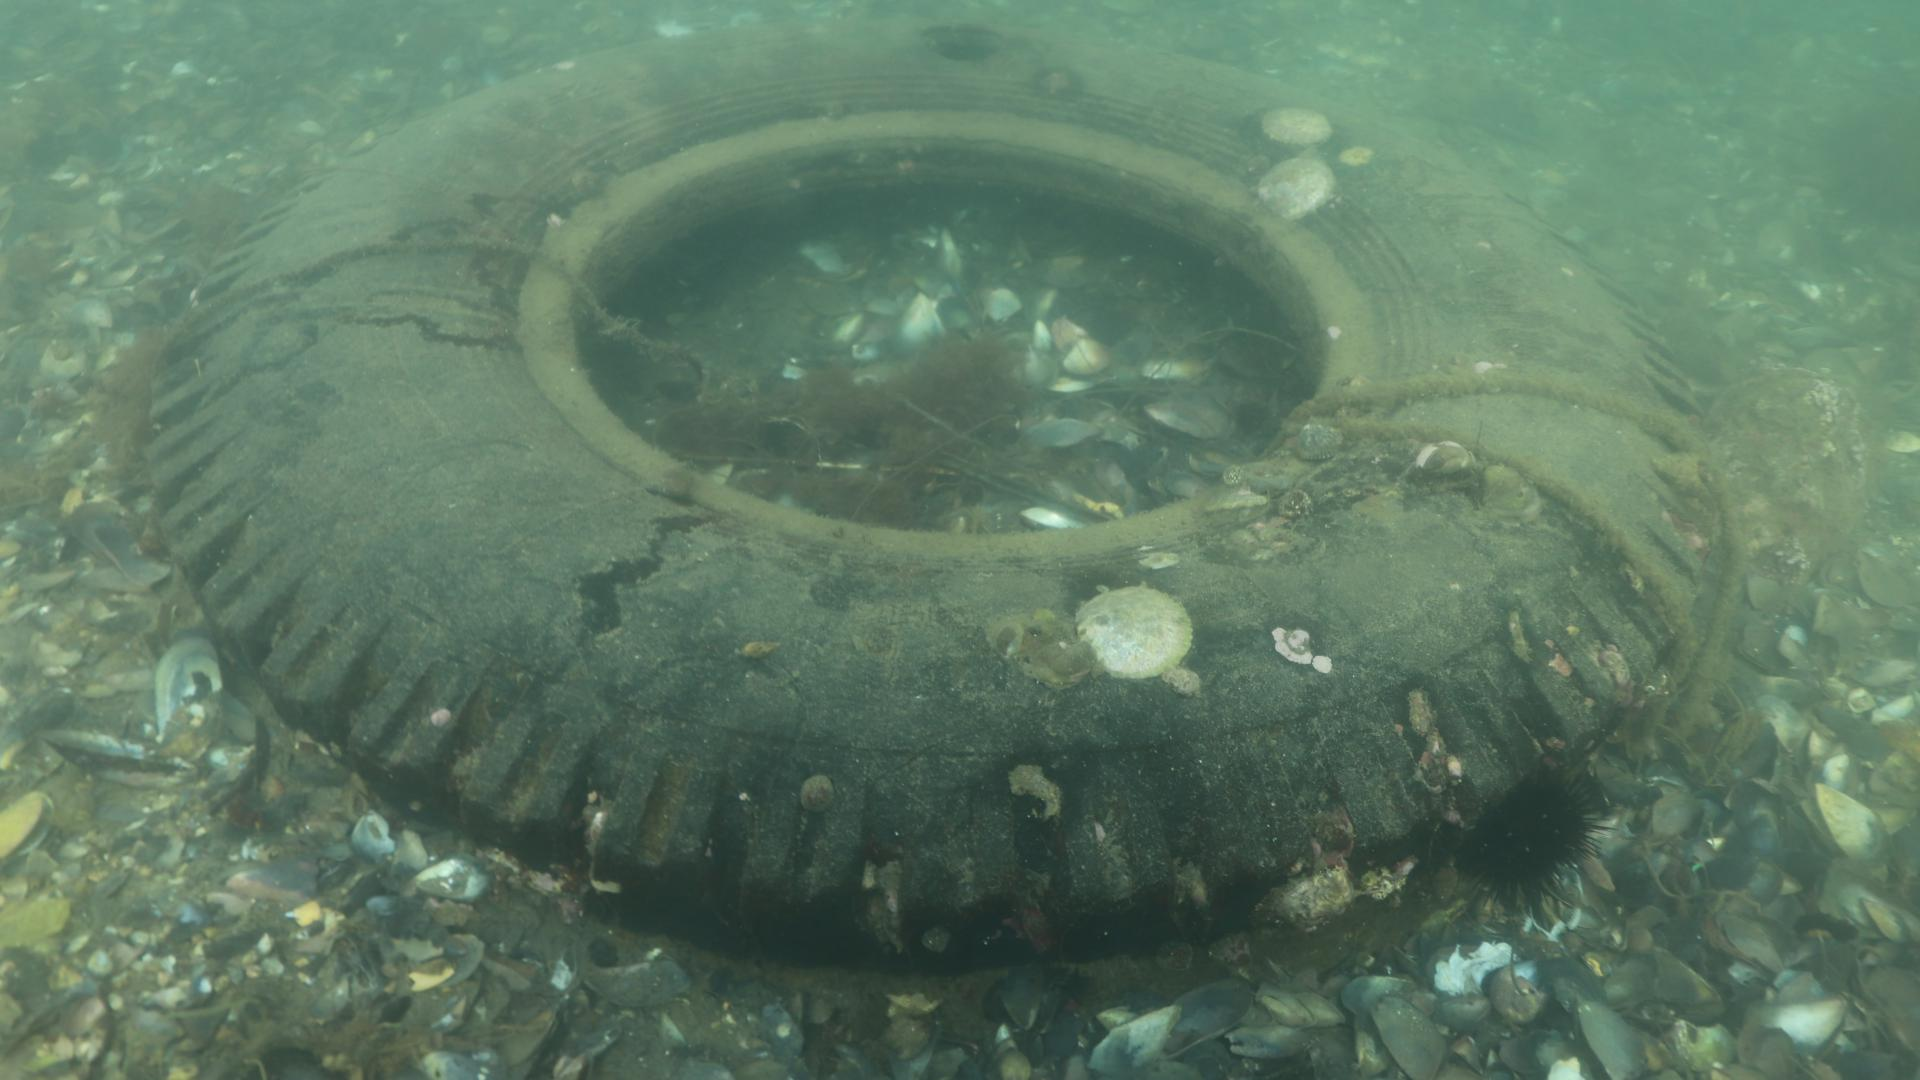bundle of ropes: (1278, 372, 1742, 738)
tire: (146, 22, 1718, 976)
